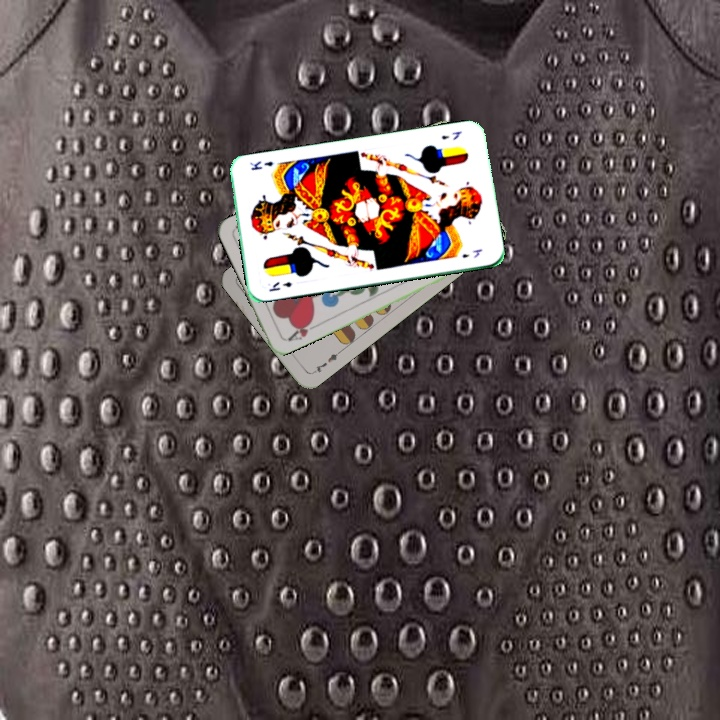E7: (308, 347, 343, 376)
EK: (265, 277, 294, 294), (437, 127, 464, 143)
HA: (283, 315, 320, 344)
